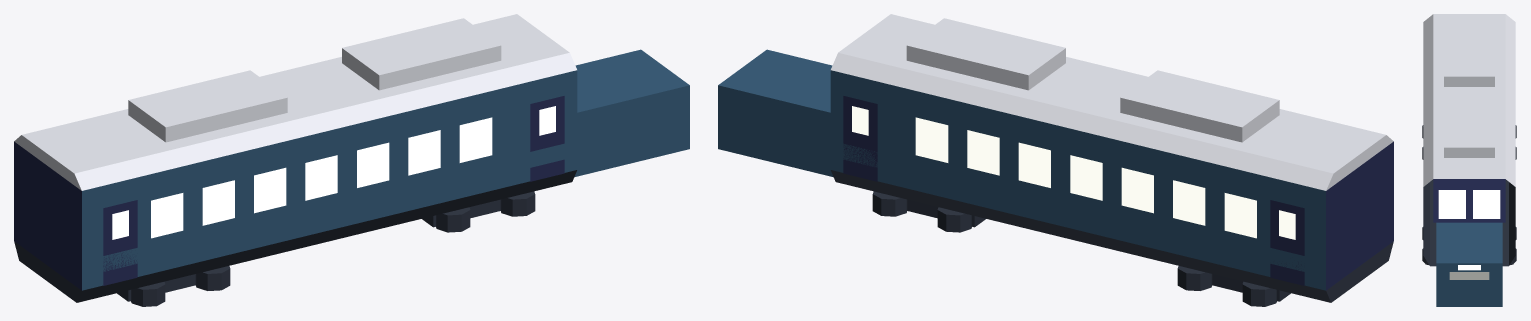
File: tra-blue-train.glb
The picture shows the model from 3 angles, left to right: view 1: azimuth 30°, elevation 25°; view 2: azimuth 150°, elevation 25°; view 3: azimuth 270°, elevation 25°; orthographic projection. The views are drawn at different scales.
Parts seen in each view (by area): view 1: tra-blue-train_root; view 2: tra-blue-train_root; view 3: tra-blue-train_root.
Boxes of the visible parts, x1,y1,x2,y2 form: tra-blue-train_root: [14, 14, 689, 306]; tra-blue-train_root: [718, 14, 1393, 306]; tra-blue-train_root: [1422, 14, 1516, 306].
Size of the model in its own units: 16.22 by 4.04 by 3.14.
Materials: 2 (2 with a texture image).
